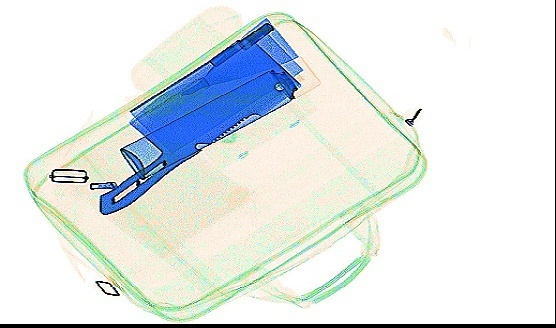knife: (97, 35, 302, 214)
pressure: (119, 53, 321, 180)
